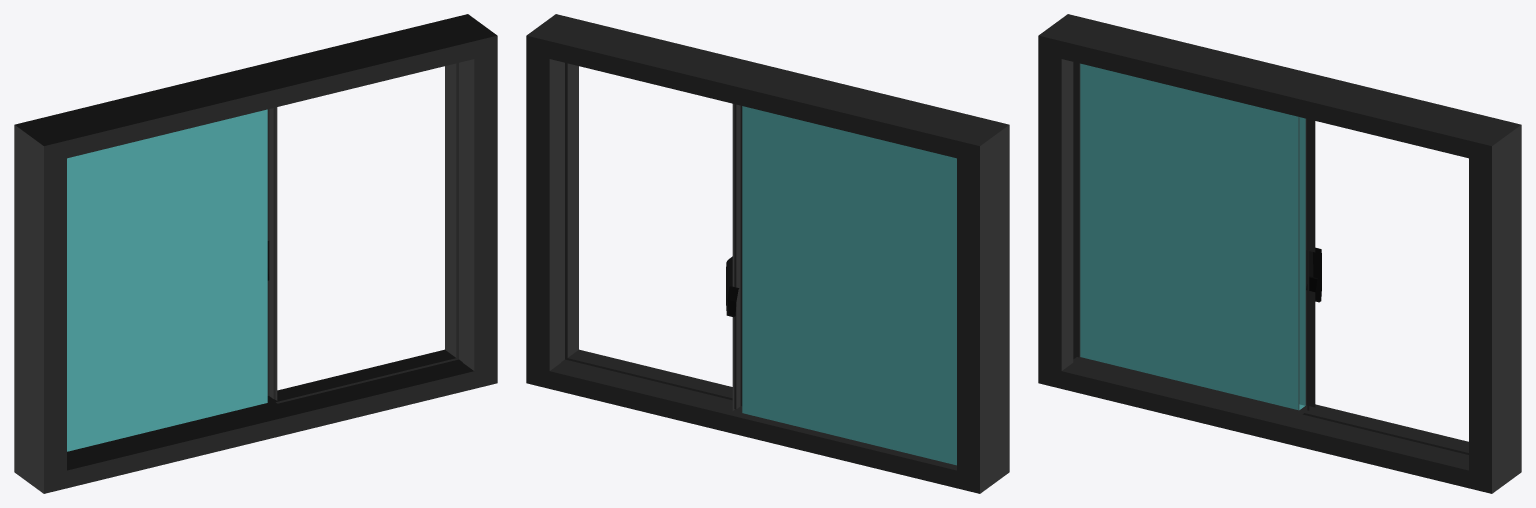
The model's file is Window 7.fbx.
The picture shows the model from 3 angles, left to right: view 1: azimuth 30°, elevation 25°; view 2: azimuth 150°, elevation 25°; view 3: azimuth 330°, elevation 25°; orthographic projection.
Visible parts, largest first — view 1: Node 0, Node 1; view 2: Node 1, Node 0; view 3: Node 1, Node 0.
Boxes of the visible parts, x1,y1,x2,y2 form: Node 0: [14, 14, 497, 493]; Node 1: [67, 107, 277, 451]; Node 1: [726, 104, 956, 465]; Node 0: [526, 14, 1009, 493]; Node 1: [1080, 63, 1321, 412]; Node 0: [1038, 14, 1521, 493].
Bounding box in the file's own units: 0.2923 × 1.73 × 2.36.
